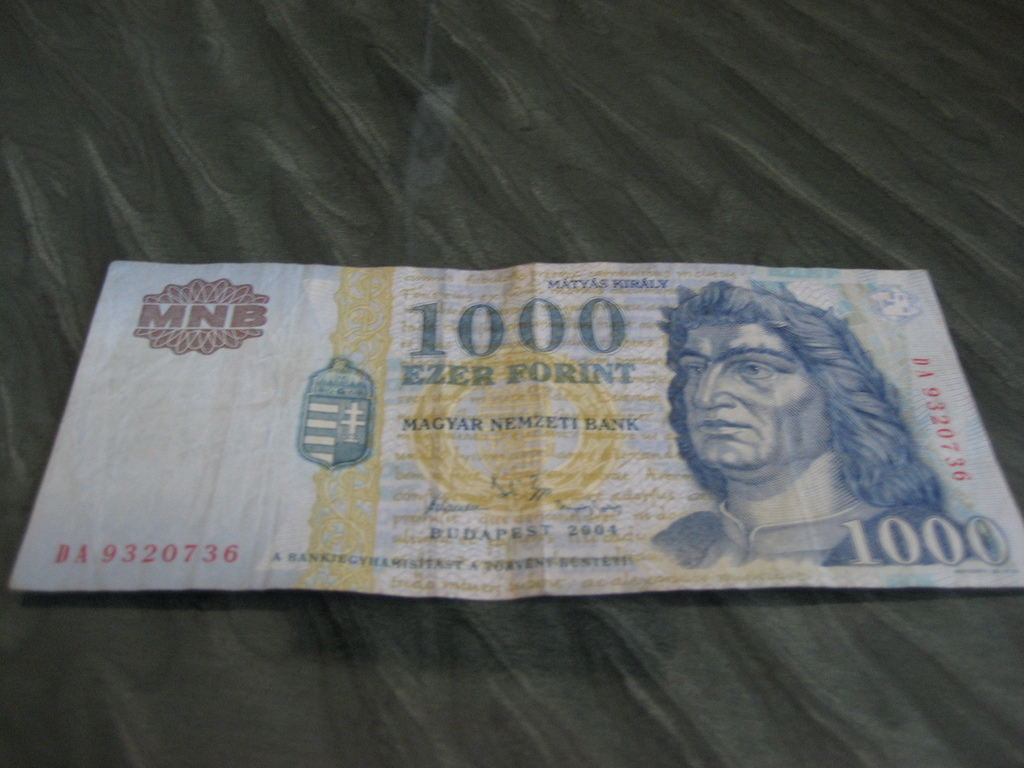face: (679, 306, 821, 474)
